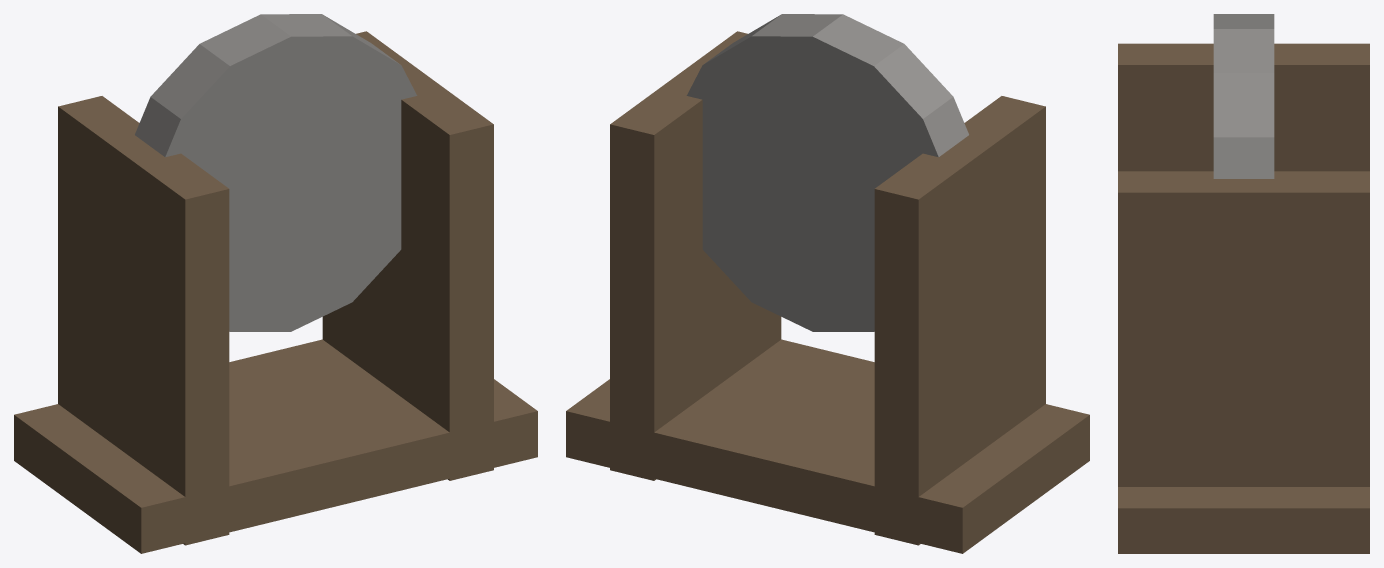
The model's file is grindstone.glb.
3 views of the same model, side by side, from view 1: azimuth 30°, elevation 25°; view 2: azimuth 150°, elevation 25°; view 3: azimuth 270°, elevation 25° (orthographic).
Parts seen in each view (by area): view 1: grindstone; view 2: grindstone; view 3: grindstone.
Boxes of the visible parts, x1,y1,x2,y2 form: grindstone: [14, 14, 537, 553]; grindstone: [566, 14, 1089, 553]; grindstone: [1118, 14, 1369, 553].
Size of the model in its own units: 0.9 by 0.945 by 0.5.
